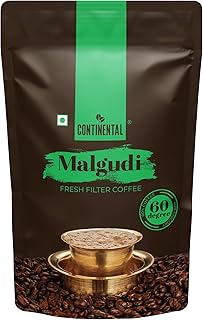Coffee: (2, 3, 203, 319)
